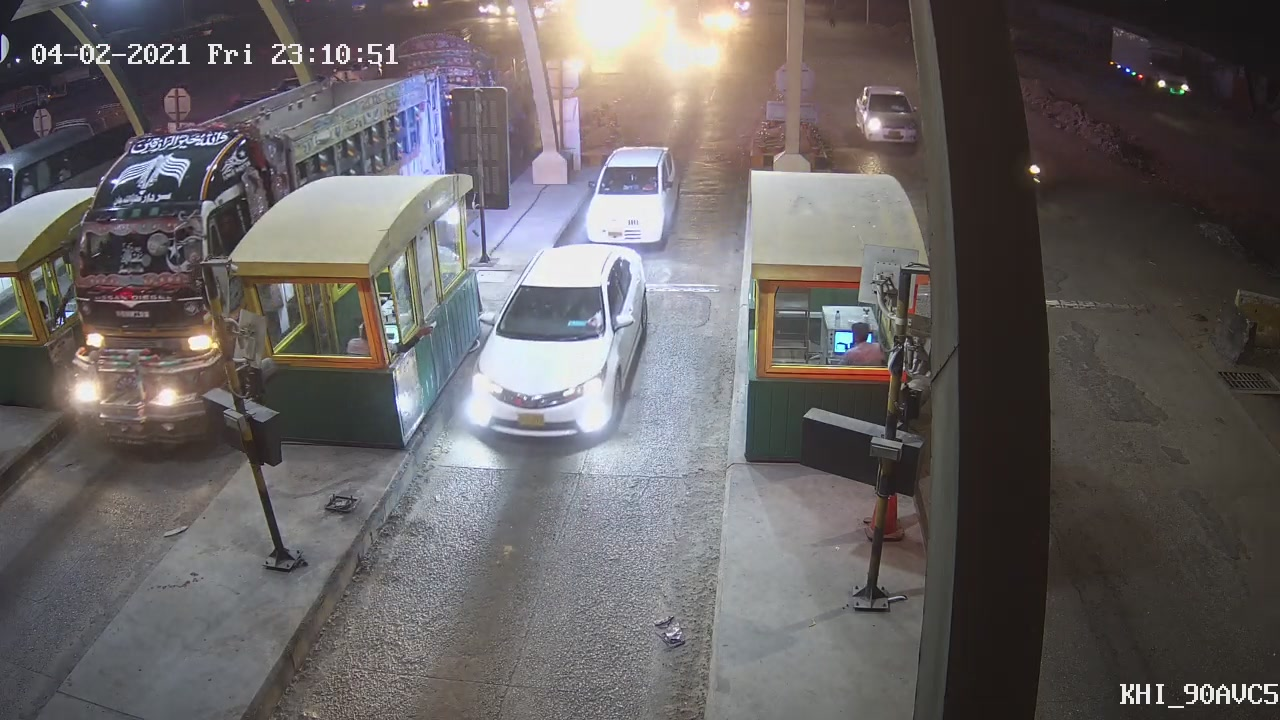F1: (458, 242, 650, 448), (582, 142, 686, 246)
